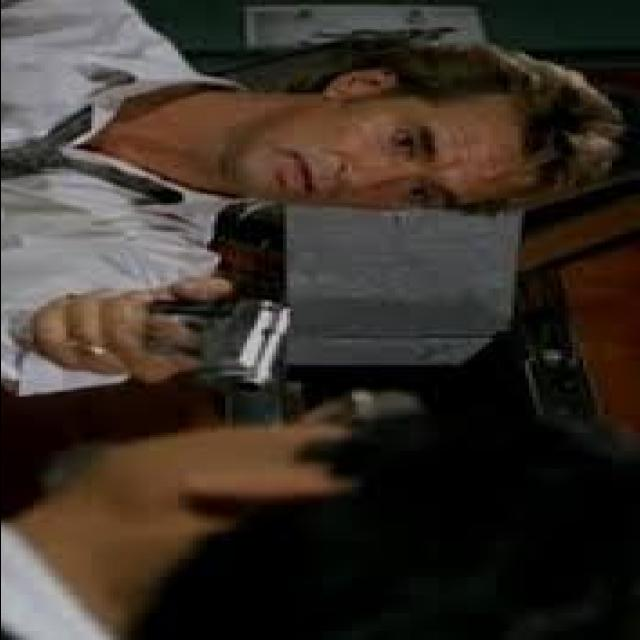weapons: (71, 286, 322, 407)
